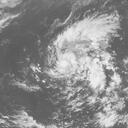cyclone: (53, 16, 117, 90)
